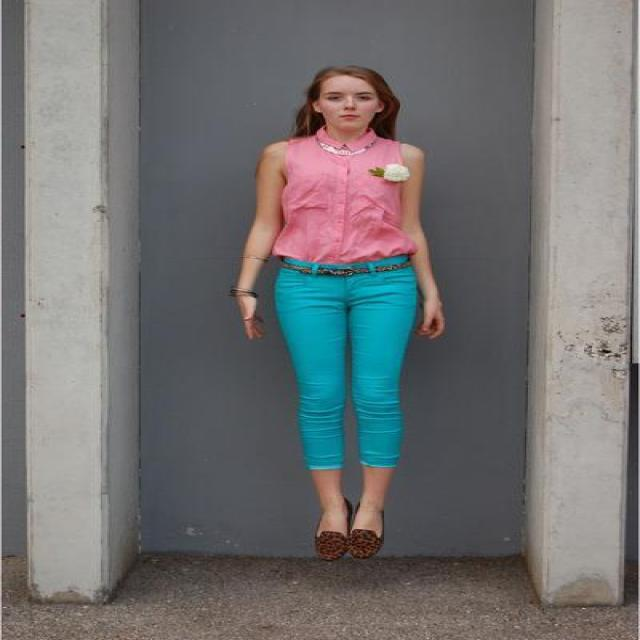pants: (276, 253, 414, 468)
shirt: (267, 130, 400, 264)
shoe: (312, 525, 382, 563)
